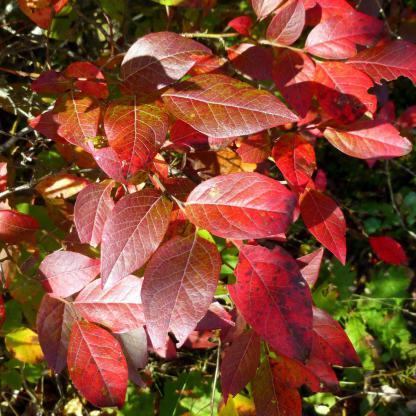blueberry leaf: (215, 238, 322, 364), (136, 232, 232, 350), (97, 186, 176, 293), (115, 33, 225, 109), (178, 174, 303, 240), (165, 78, 294, 141), (118, 34, 223, 104), (64, 316, 135, 415), (307, 62, 382, 139), (322, 115, 415, 169), (298, 186, 355, 269), (49, 81, 106, 163), (30, 248, 112, 299), (72, 174, 122, 257), (271, 125, 322, 201), (275, 130, 315, 197), (365, 230, 411, 274), (266, 1, 307, 47)
